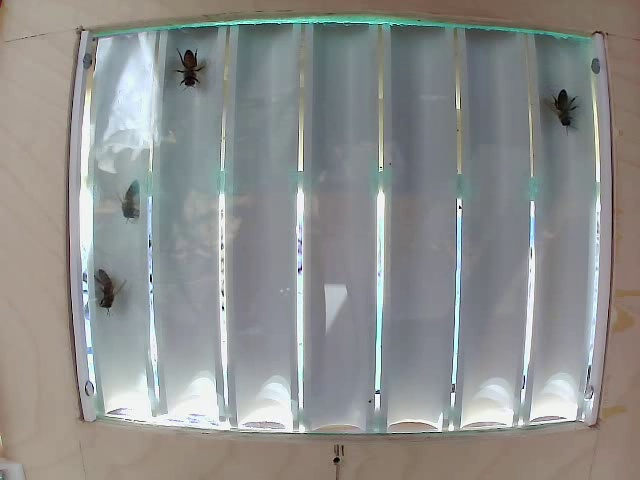bee: (533, 87, 581, 136), (171, 37, 211, 91), (89, 263, 128, 318), (120, 177, 142, 223)
